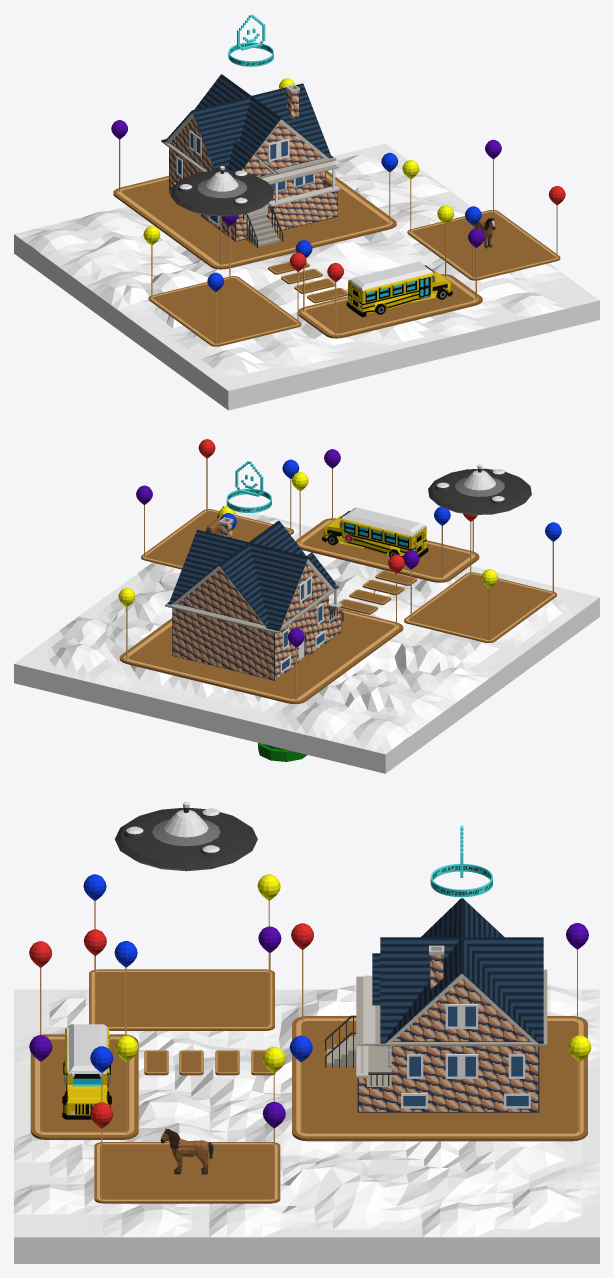
3 renders of one model, top to bottom at view 1: azimuth 30°, elevation 25°; view 2: azimuth 150°, elevation 25°; view 3: azimuth 270°, elevation 25°, orthographic. The views are drawn at different scales.
Visible parts, largest first — view 1: Cube.013, Cube.430, OBJRANDOM_UFO, VEHICLES_SCHOOL_BUS, TYPE_PREMIUM; view 2: Cube.013, Cube.430, OBJRANDOM_UFO, VEHICLES_SCHOOL_BUS, TYPE_PREMIUM, UNDERGROUND_PIPES; view 3: Cube.013, Cube.430, OBJRANDOM_UFO, VEHICLES_SCHOOL_BUS, TYPE_PREMIUM, ANIMAL_CABALLO.
Part boxes in pixels (left/top/right/bottom): Cube.013: left=14, top=78, right=599, bottom=410; Cube.430: left=161, top=74, right=340, bottom=247; OBJRANDOM_UFO: left=170, top=166, right=274, bottom=216; VEHICLES_SCHOOL_BUS: left=346, top=262, right=452, bottom=317; TYPE_PREMIUM: left=228, top=14, right=273, bottom=66; Cube.013: left=14, top=439, right=599, bottom=773; Cube.430: left=165, top=517, right=343, bottom=680; OBJRANDOM_UFO: left=428, top=464, right=531, bottom=514; VEHICLES_SCHOOL_BUS: left=322, top=507, right=428, bottom=557; TYPE_PREMIUM: left=226, top=461, right=271, bottom=512; UNDERGROUND_PIPES: left=258, top=743, right=306, bottom=761; Cube.013: left=14, top=874, right=599, bottom=1263; Cube.430: left=324, top=898, right=547, bottom=1112; OBJRANDOM_UFO: left=115, top=802, right=257, bottom=871; VEHICLES_SCHOOL_BUS: left=62, top=1024, right=111, bottom=1119; TYPE_PREMIUM: left=430, top=825, right=492, bottom=897; ANIMAL_CABALLO: left=160, top=1128, right=213, bottom=1174.
Size of the model in its own units: 4000 by 3027 by 4000.
40 materials, 3 textured.
